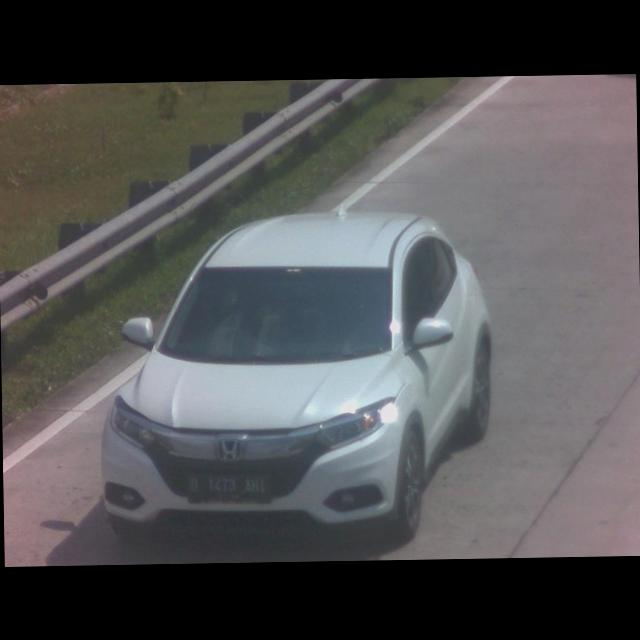plate: (183, 471, 269, 505)
